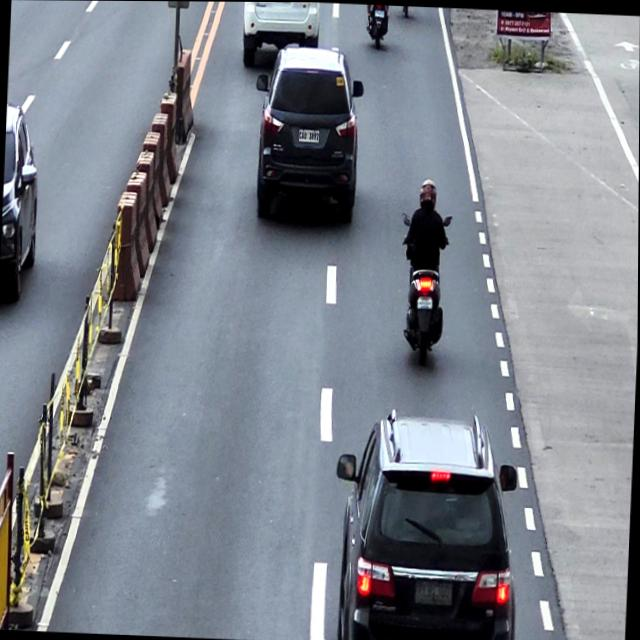Car: (329, 405, 525, 640), (250, 41, 365, 222), (0, 101, 42, 303), (242, 1, 321, 72)
License-Plate: (413, 576, 454, 606), (297, 127, 320, 143), (417, 294, 434, 309), (374, 8, 384, 17)
Motorcycle: (396, 210, 452, 366), (365, 4, 389, 48)
